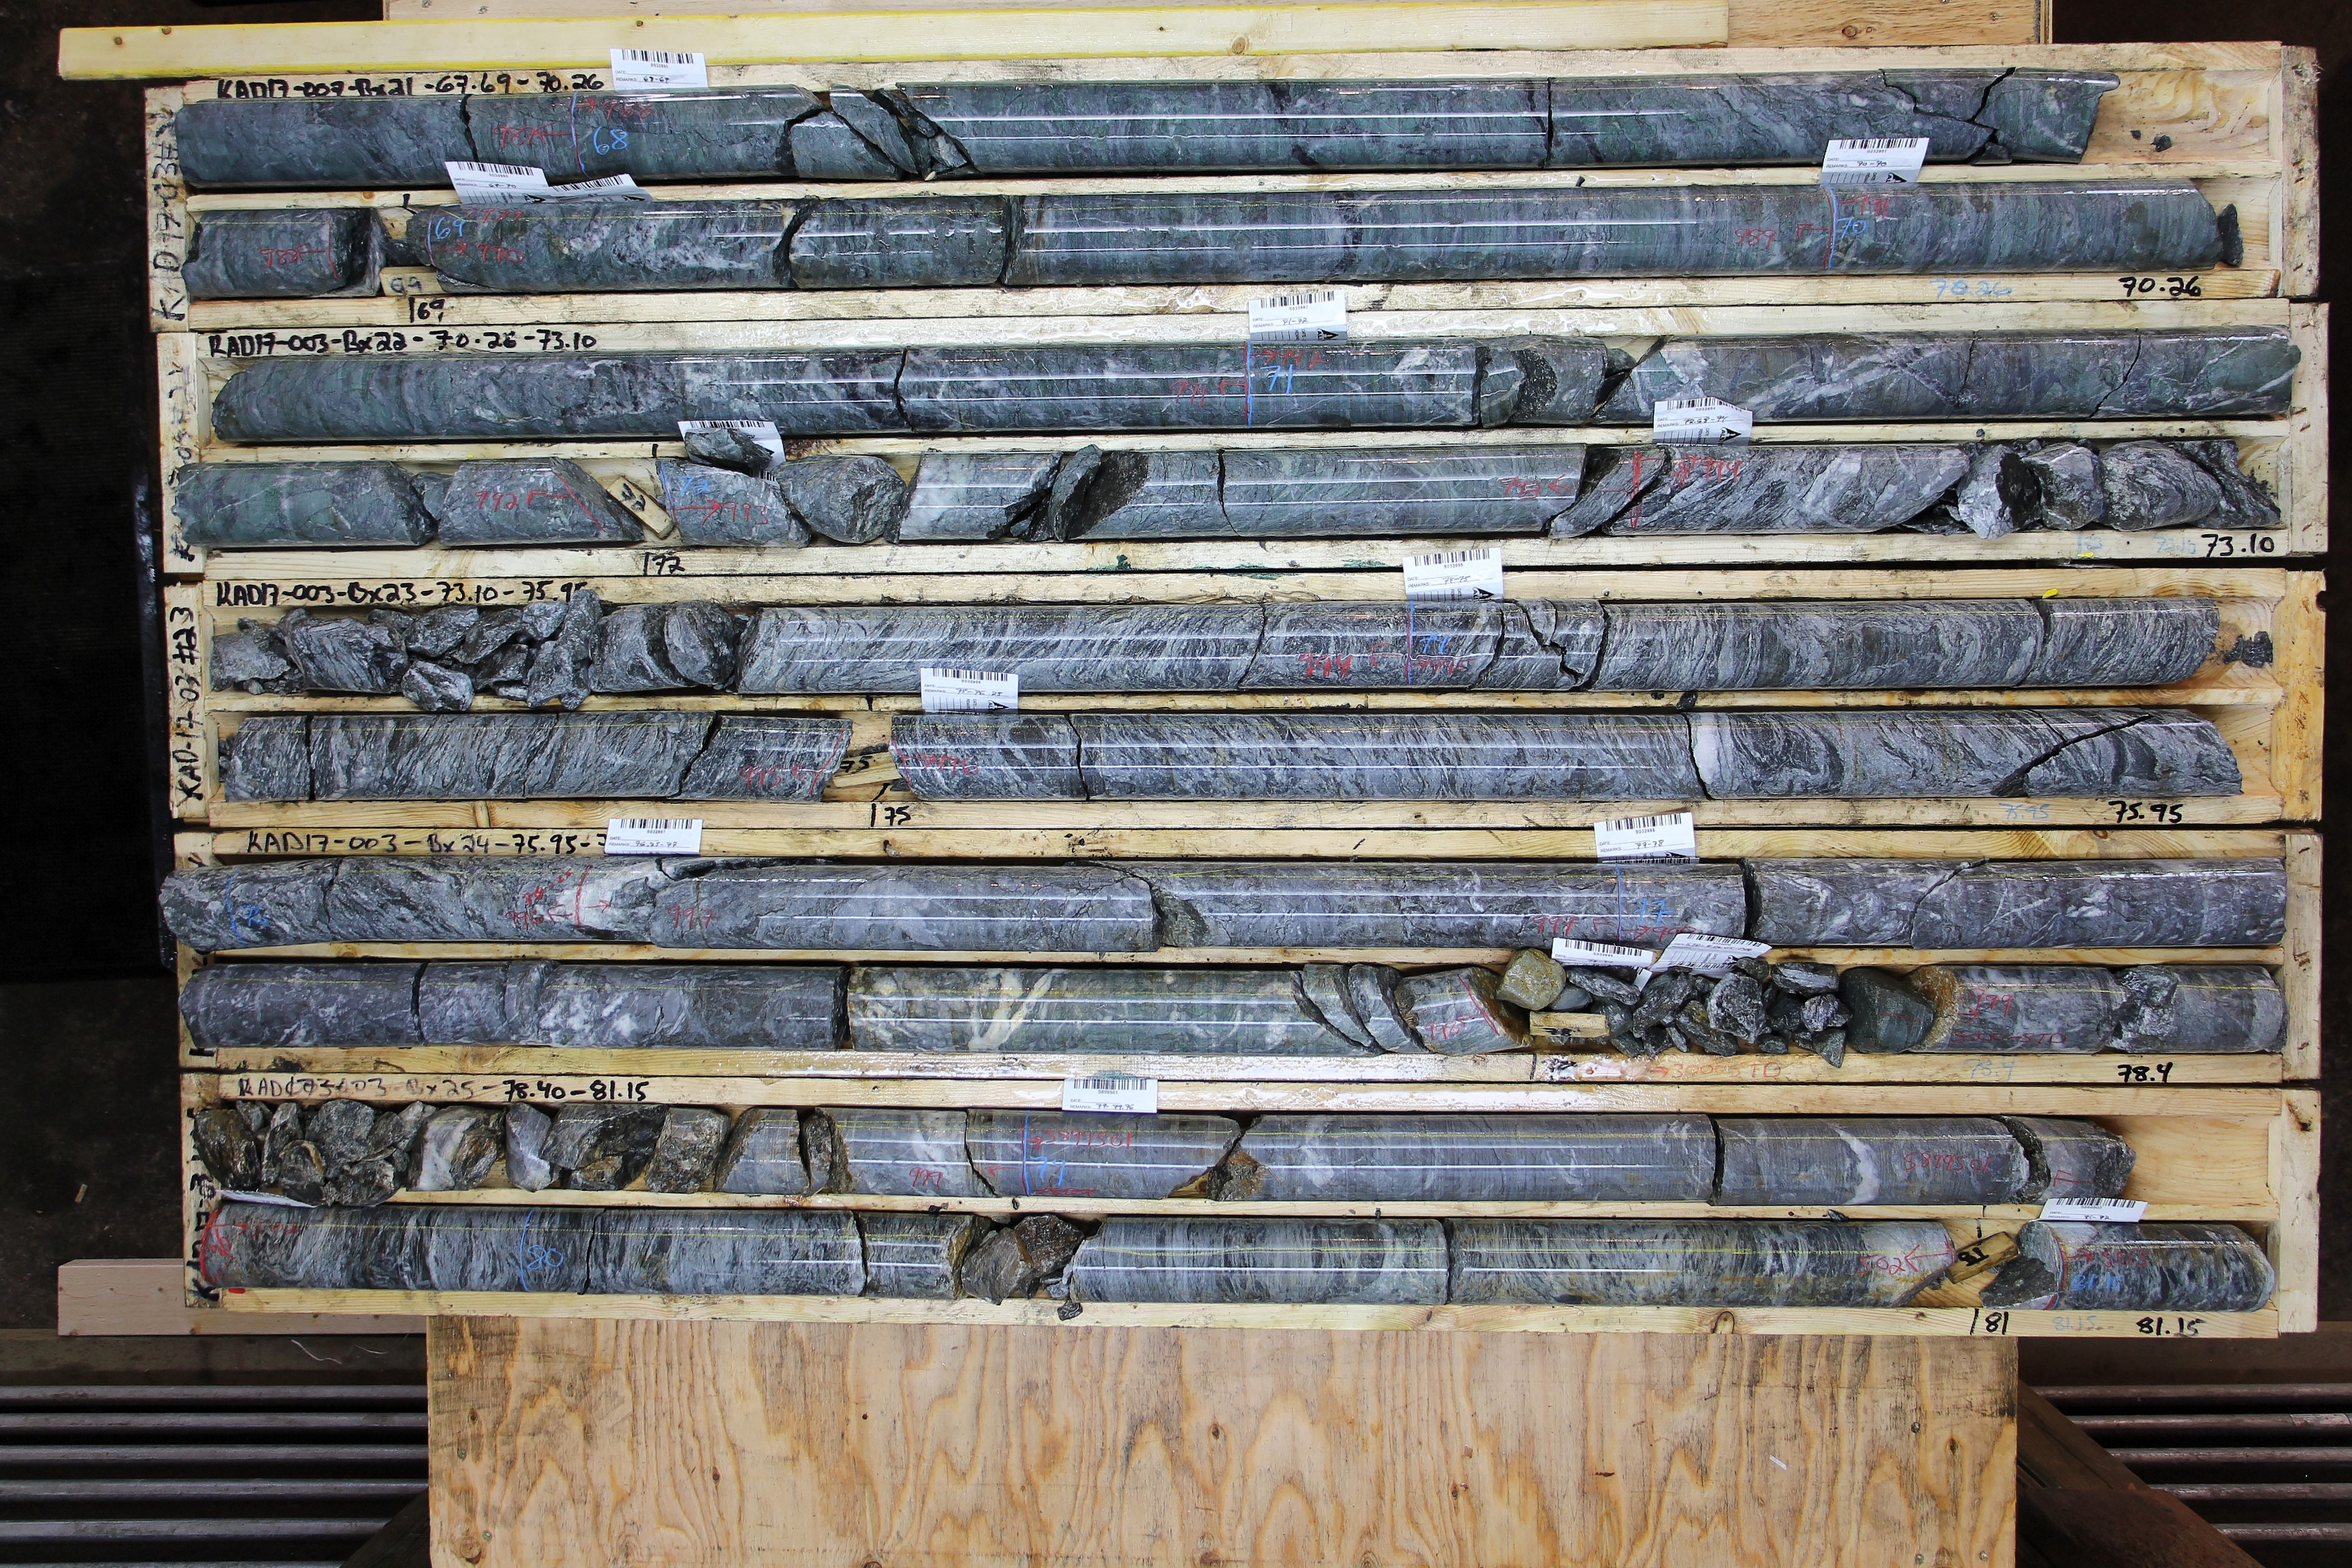rock-KAD17_003-67.69-68: (186, 97, 578, 184)
rock-KAD17_003-68-68x: (581, 74, 2093, 178)
rock-KAD17_003-68x-69: (188, 210, 378, 299)
rock-KAD17_003-69-70: (431, 189, 1836, 293)
rock-KAD17_003-70-70x: (1835, 180, 2225, 273)
rock-KAD17_003-70x-71: (214, 347, 1248, 438)
rock-KAD17_003-71-71x: (1253, 333, 2291, 421)
rock-KAD17_003-71x-72: (201, 462, 627, 548)
rock-KAD17_003-72-73: (666, 444, 2081, 546)
rock-KAD17_003-73-73x: (2083, 441, 2289, 528)
rock-KAD17_003-73x-74: (222, 606, 1409, 688)
rock-KAD17_003-74-74x: (1411, 600, 2216, 693)
rock-KAD17_003-74x-75: (225, 712, 838, 800)
rock-KAD17_003-75-76: (900, 710, 2241, 800)
rock-KAD17_003-76-77: (236, 863, 1620, 947)
rock-KAD17_003-77-77x: (1622, 863, 2281, 941)
rock-KAD17_003-77x-78: (214, 964, 1515, 1053)
rock-KAD17_003-78-78x: (1627, 966, 2281, 1053)
rock-KAD17_003-78x-79: (223, 1101, 1026, 1192)
rock-KAD17_003-79-79x: (1030, 1113, 2132, 1199)
rock-KAD17_003-79x-80: (225, 1205, 525, 1289)
rock-KAD17_003-80-81: (528, 1208, 1946, 1303)
rock-KAD17_003-81-81.15: (2024, 1219, 2268, 1309)
